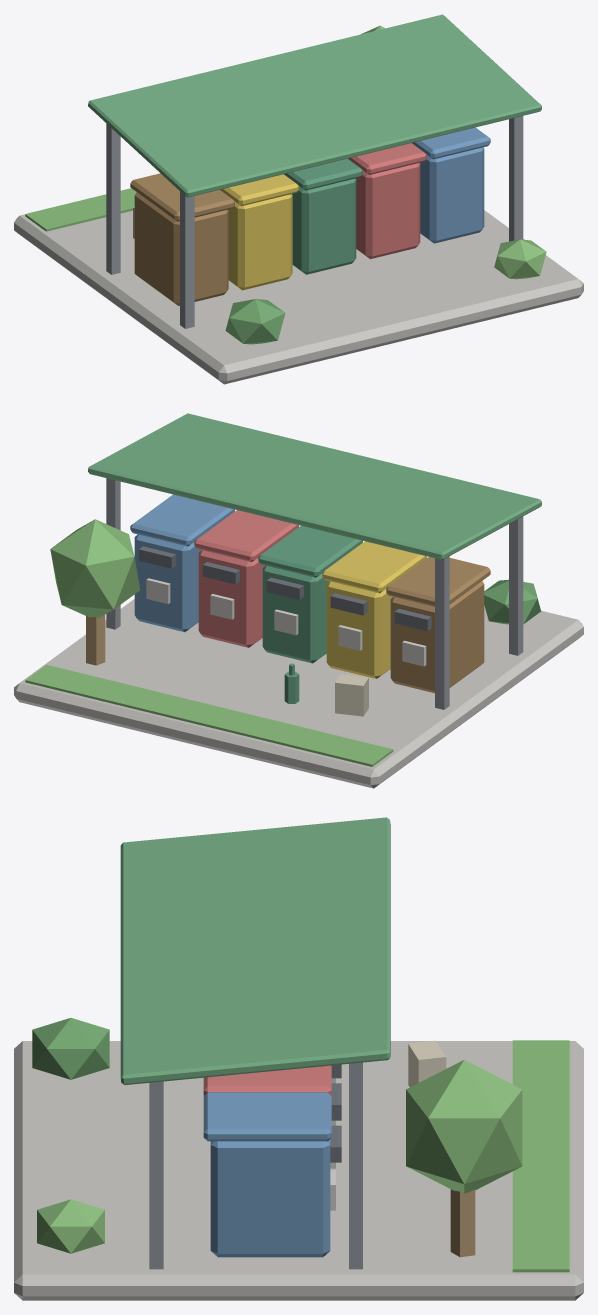
File: residuos__ponto_coleta.glb
3 views of the same model, one above another, from view 1: azimuth 30°, elevation 25°; view 2: azimuth 150°, elevation 25°; view 3: azimuth 270°, elevation 25° (orthographic). The views are drawn at different scales.
Parts seen in each view (by area): view 1: residuos__ponto_coleta; view 2: residuos__ponto_coleta; view 3: residuos__ponto_coleta.
Part boxes in pixels (x1,y1,x2,y2): residuos__ponto_coleta: (14, 14, 583, 384); residuos__ponto_coleta: (14, 413, 583, 788); residuos__ponto_coleta: (14, 817, 583, 1300).
Size of the model in its own units: 2 by 0.9684 by 2.
